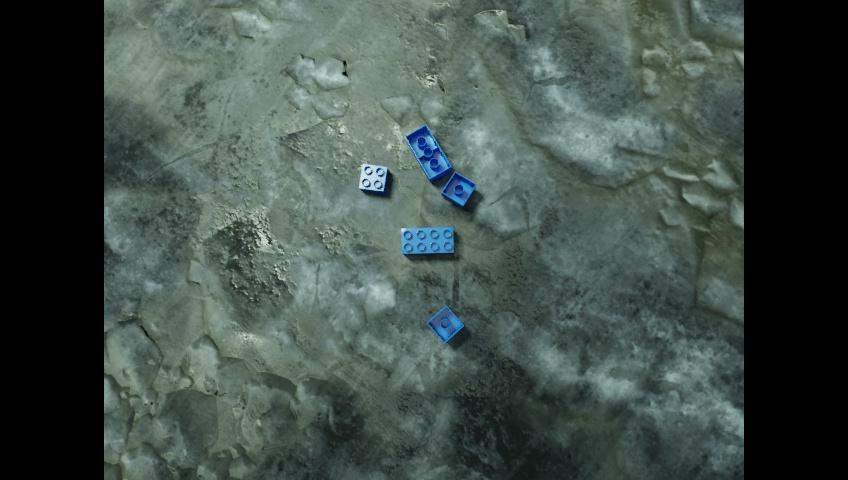2x2_blue: (427, 306, 464, 344), (441, 172, 475, 209), (359, 163, 388, 194)
4x2_blue: (404, 124, 450, 182), (401, 226, 452, 253)
